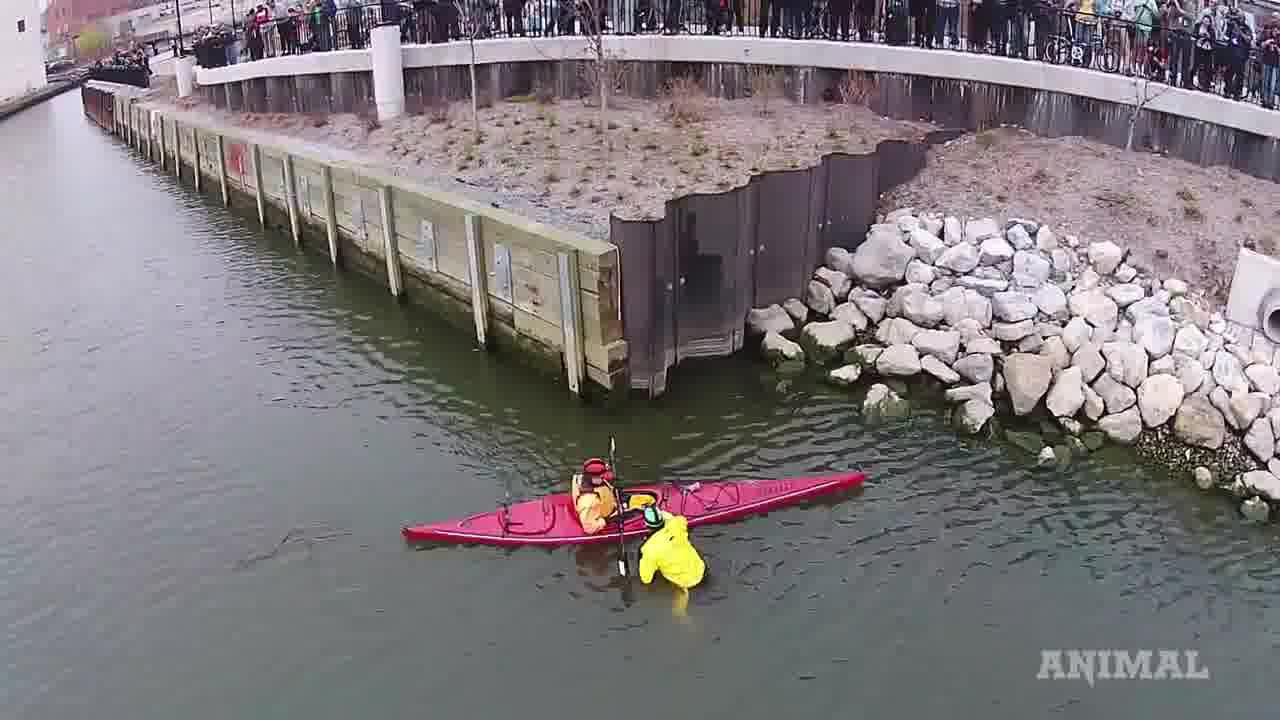human: (631, 509, 716, 599)
